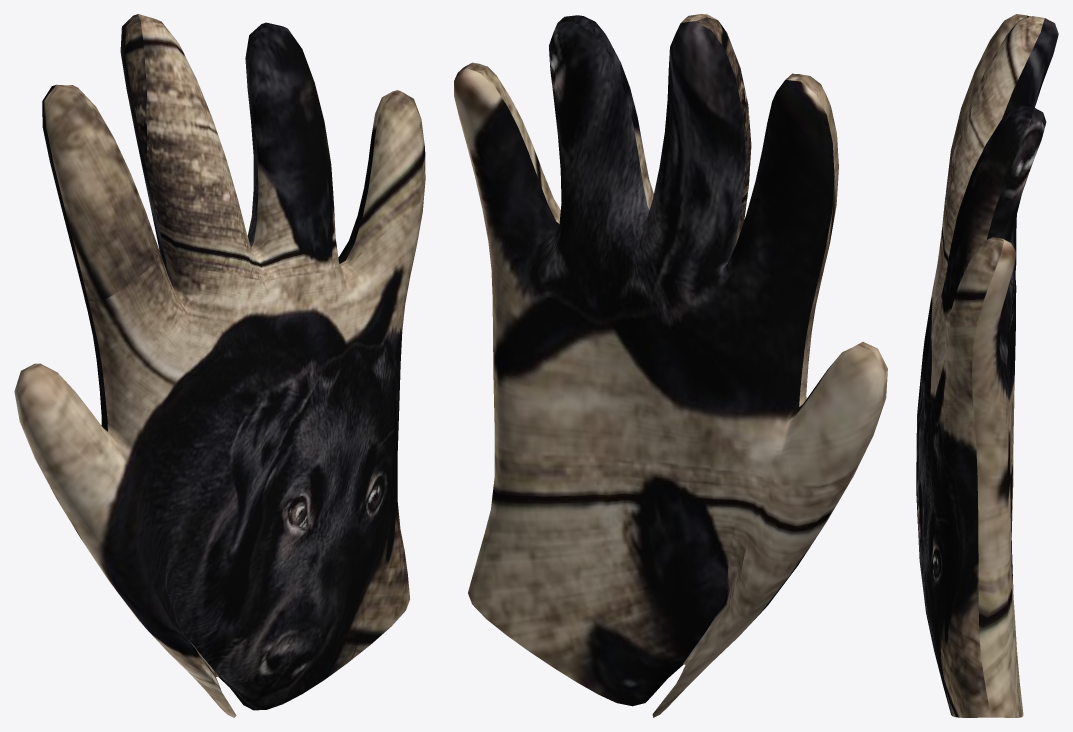
Rendered from _and.fbx.
The picture shows the model from 3 angles, left to right: view 1: azimuth 30°, elevation 25°; view 2: azimuth 150°, elevation 25°; view 3: azimuth 270°, elevation 25°; orthographic projection. The views are drawn at different scales.
Parts seen in each view (by area): view 1: Cube; view 2: Cube; view 3: Cube.
Part boxes in pixels (left/top/right/bottom): Cube: left=14, top=14, right=425, bottom=717; Cube: left=454, top=14, right=887, bottom=717; Cube: left=916, top=14, right=1058, bottom=717.
Size of the model in its own units: 276 by 457 by 88.77.
